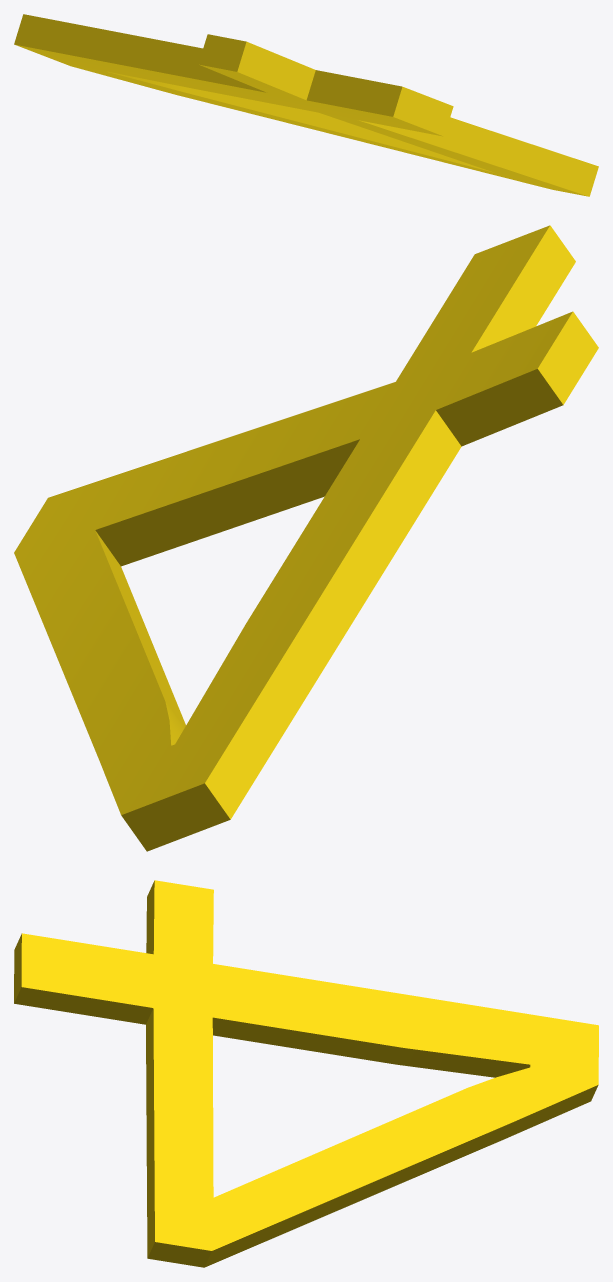
The model's file is Number_4.gltf.
3 views of the same model, one above another, from view 1: azimuth 30°, elevation 25°; view 2: azimuth 150°, elevation 25°; view 3: azimuth 270°, elevation 25° (orthographic). The views are drawn at different scales.
Visible parts, largest first — view 1: Sub_8_Cell_3_2_Number_4; view 2: Sub_8_Cell_3_2_Number_4; view 3: Sub_8_Cell_3_2_Number_4.
Part boxes in pixels (box(x1,y1,x2,y2)): Sub_8_Cell_3_2_Number_4: box(14, 14, 598, 196); Sub_8_Cell_3_2_Number_4: box(14, 225, 598, 851); Sub_8_Cell_3_2_Number_4: box(14, 880, 598, 1267).
Size of the model in its own units: 0.0172 by 0.0109 by 0.0247.
